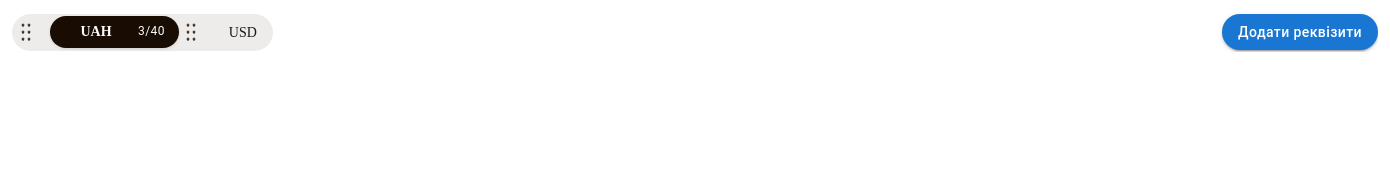
CurrencyTabs › displays and updates the character counter while editing
Check: the text "3/40" is shown, box [138, 22, 165, 42]
Replace the text in the field showing "UAH" with "US Dollar" at {"x": 96, "y": 32}, box [64, 24, 128, 40]
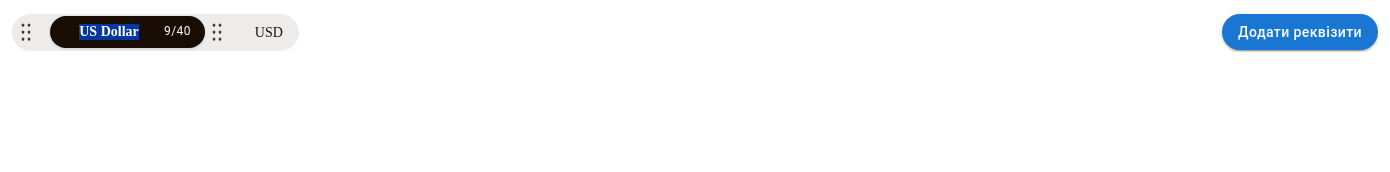
Check: the text "9/40" is shown, box [164, 22, 191, 42]
